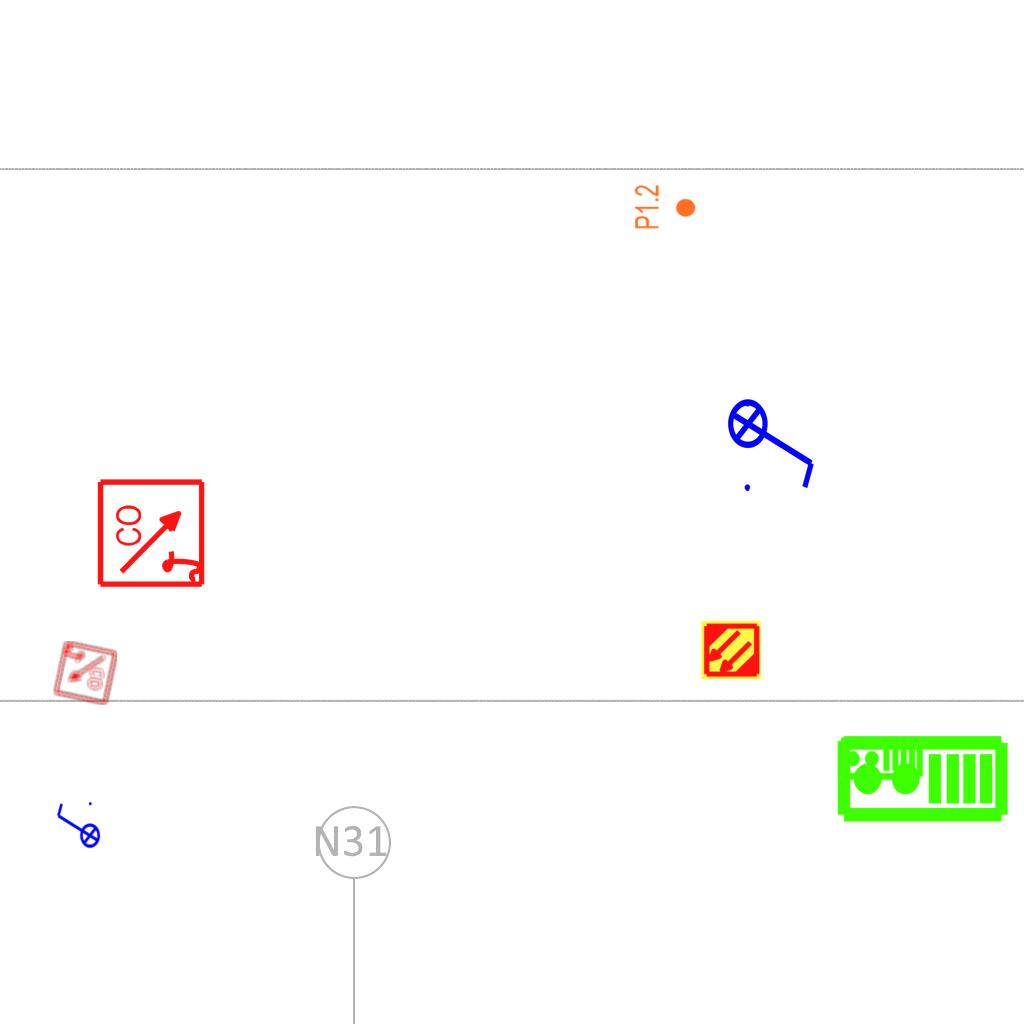ASR_Ansaugrauchmelder: (700, 619, 762, 681)
Ausschalter_beleuchtet: (726, 385, 822, 497), (53, 799, 101, 855)
Downlight_LED_Einbauleuchten_Flur: (633, 184, 697, 230)
Gegensprechanlage_mit_Video: (834, 733, 1010, 828), (836, 736, 924, 783)
ROA_Rauchmelder_optisch_mit_Signalgeber_(Sockelsirene): (96, 476, 209, 589), (51, 639, 119, 707)
